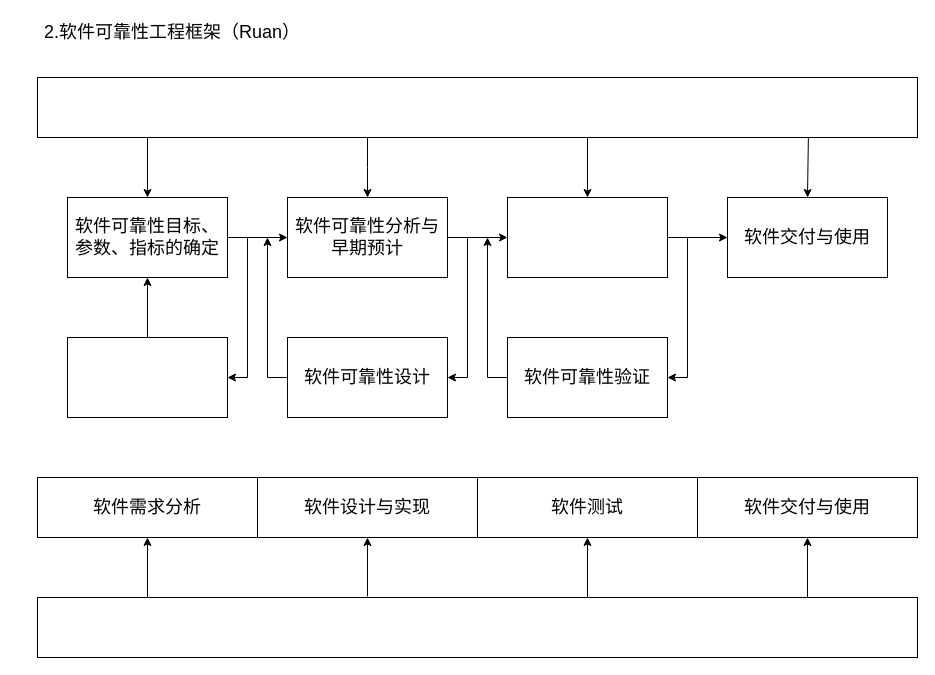
Some shapes in this 935 by 675 pixel diagram are drawn without their labels. Each missing label, with the centre of its shape:
软 件 可 靠 性 工 程: the point at 477,107
软 件 工 程: the point at 477,627
软件可靠性测试与评价: the point at 587,237
软件可靠性需求的可行性分析: the point at 147,377
